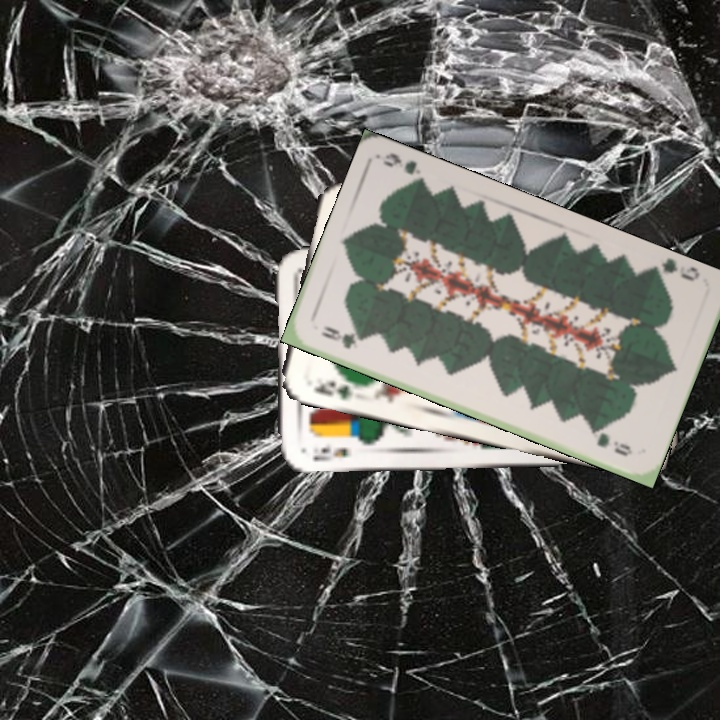EK: (309, 443, 351, 464)
G9: (648, 256, 703, 284), (317, 321, 366, 352)
GK: (310, 376, 355, 403)
